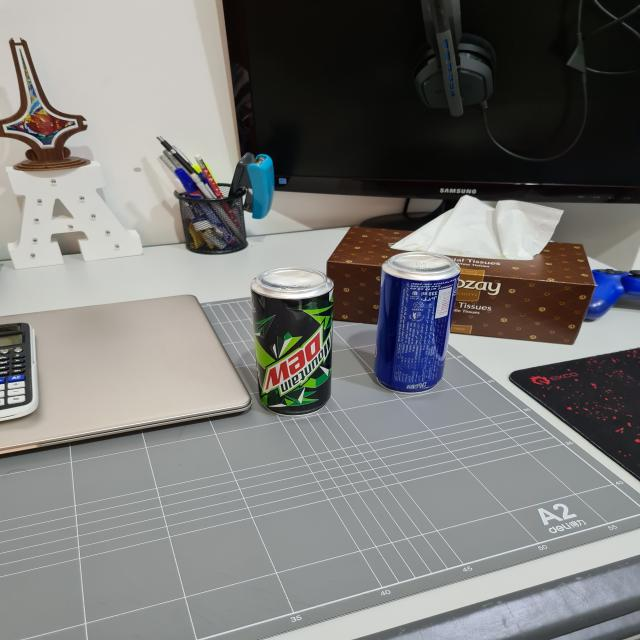non-organic waste: (244, 267, 337, 420), (367, 251, 459, 396)
